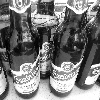beer: (4, 1, 45, 94)
